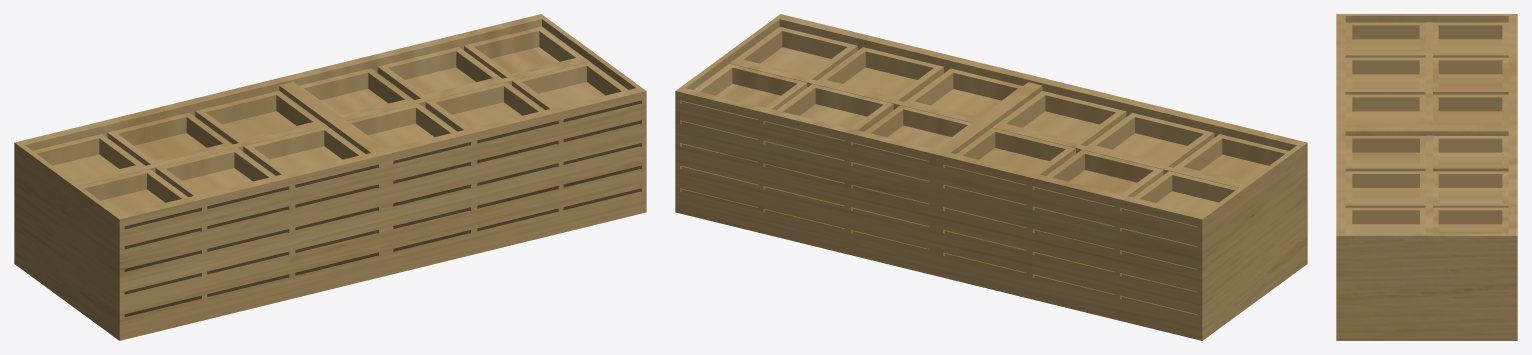
The model's file is Display2.fbx.
3 views of the same model, side by side, from view 1: azimuth 30°, elevation 25°; view 2: azimuth 150°, elevation 25°; view 3: azimuth 270°, elevation 25° (orthographic). The views are drawn at different scales.
Parts seen in each view (by area): view 1: Display2; view 2: Display2; view 3: Display2.
Boxes of the visible parts, left/top/right/bottom form: Display2: left=14, top=14, right=646, bottom=340; Display2: left=675, top=14, right=1307, bottom=340; Display2: left=1336, top=14, right=1517, bottom=340.
Bounding box in the file's own units: 347 × 76.3 × 120.
